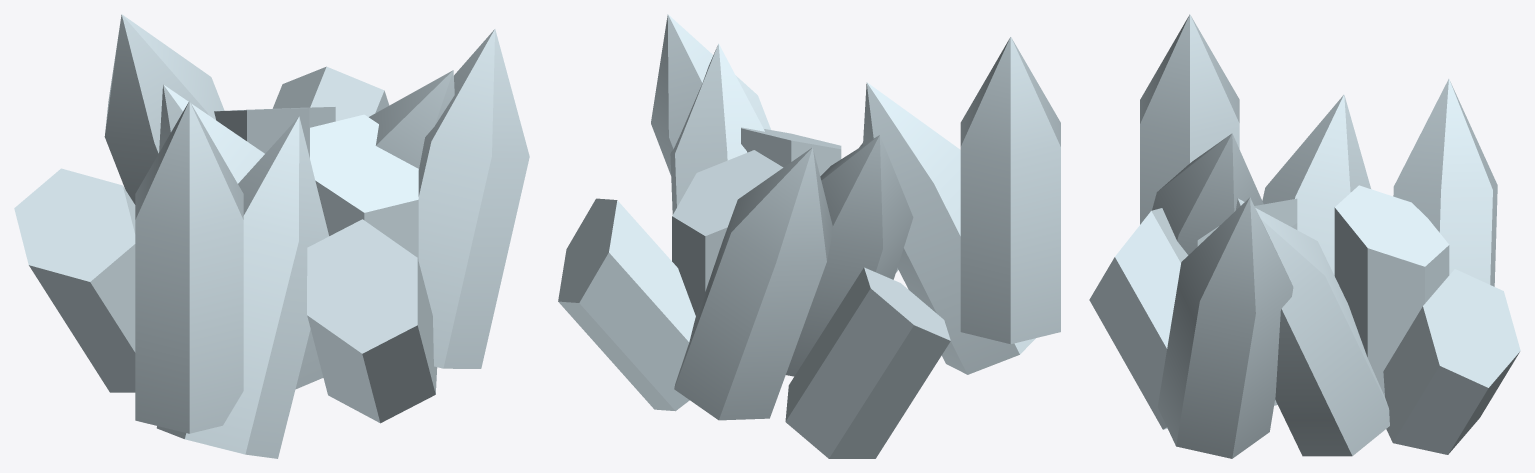
Rendered from aircrystalgrowth.obj.
The picture shows the model from 3 angles, left to right: view 1: azimuth 30°, elevation 25°; view 2: azimuth 150°, elevation 25°; view 3: azimuth 270°, elevation 25°; orthographic projection. The views are drawn at different scales.
Parts seen in each view (by area): view 1: g0; view 2: g0; view 3: g0.
Part boxes in pixels (<box>): g0: <box>14,14,529,458</box>; g0: <box>558,14,1060,458</box>; g0: <box>1089,14,1520,458</box>.
Size of the model in its own units: 0.9786 by 0.8778 by 0.9762.
